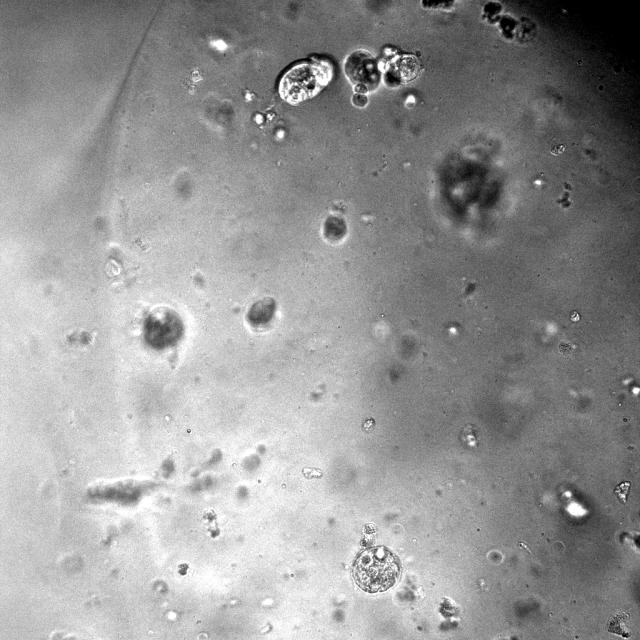organoid: (341, 44, 422, 108), (350, 522, 401, 593), (277, 55, 334, 106), (481, 2, 536, 43), (86, 477, 157, 505), (143, 306, 182, 350), (243, 296, 281, 334), (252, 108, 287, 141), (322, 214, 346, 243), (438, 597, 459, 630), (608, 612, 631, 638), (182, 68, 202, 95), (202, 508, 219, 537), (459, 424, 479, 446), (420, 0, 454, 11), (104, 257, 122, 277), (614, 481, 630, 503), (550, 136, 566, 156), (362, 416, 376, 433), (558, 341, 575, 354), (302, 468, 322, 478), (569, 309, 581, 322), (244, 89, 255, 102), (178, 564, 188, 575)
